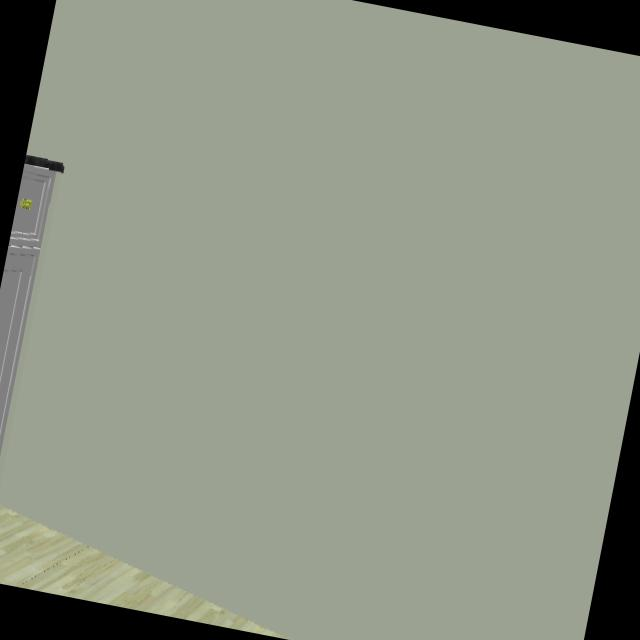cabinet: (0, 157, 62, 468)
